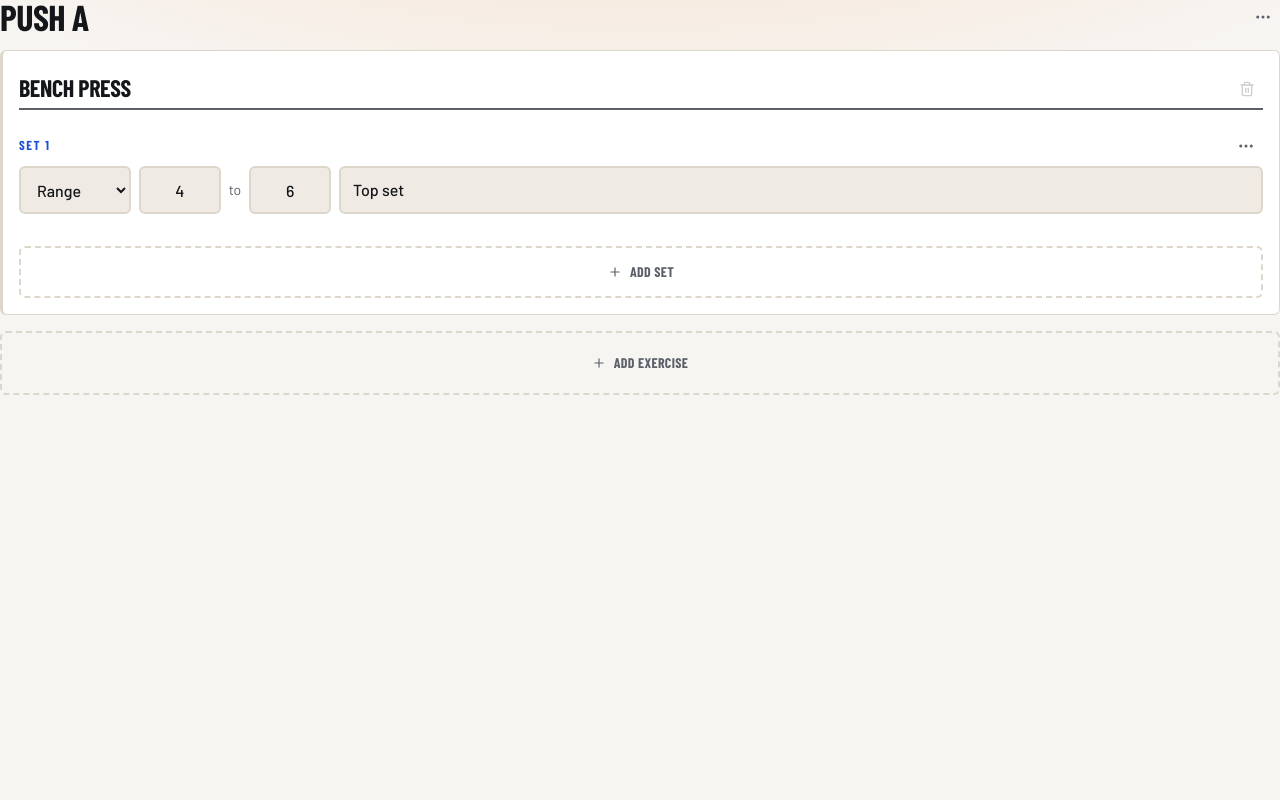
Test: WorkoutEditor › throws the unsaved changes away on undo
Expected: the button "Save changes" is not shown
Replace the text in the dropdown named "Exercise 1 name" with "Incline press" at point(641, 88), box [19,67,1263,110]
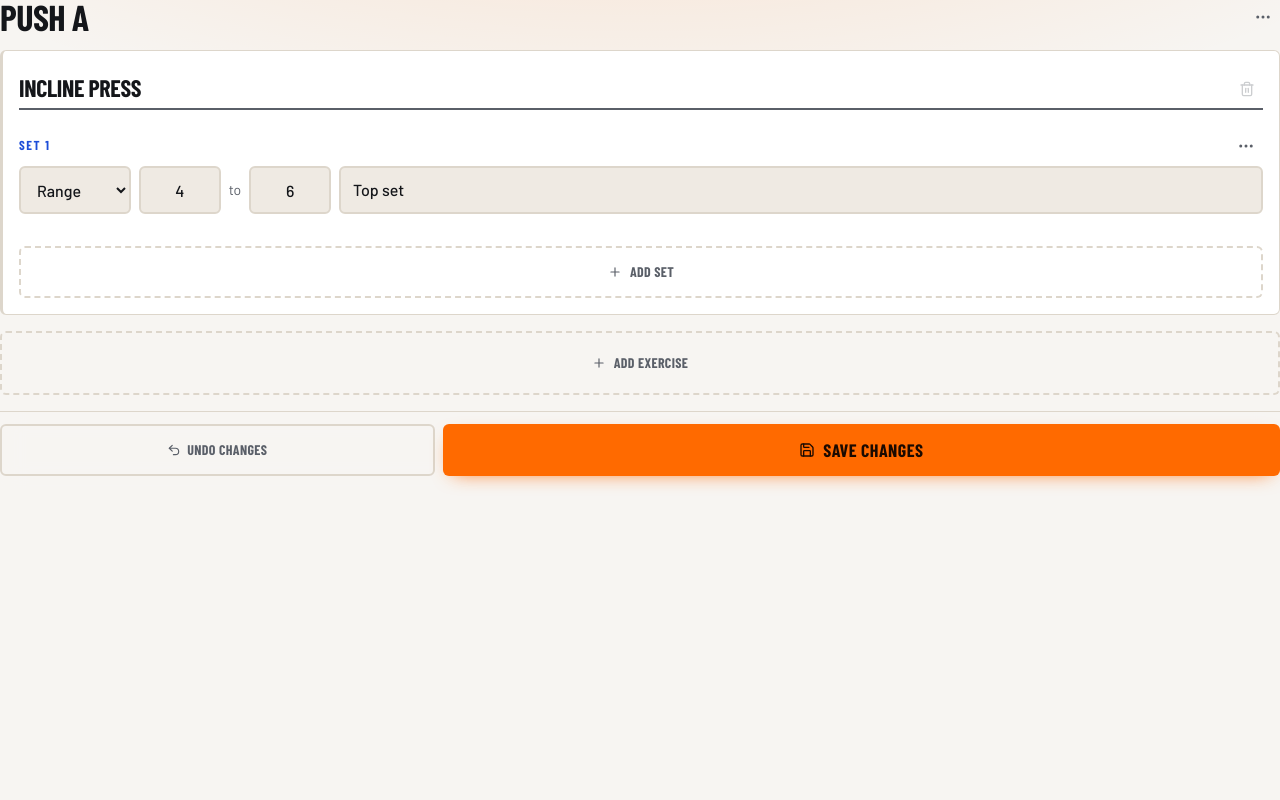
Click the button "Add exercise" at point(640, 363), box [0,331,1279,395]
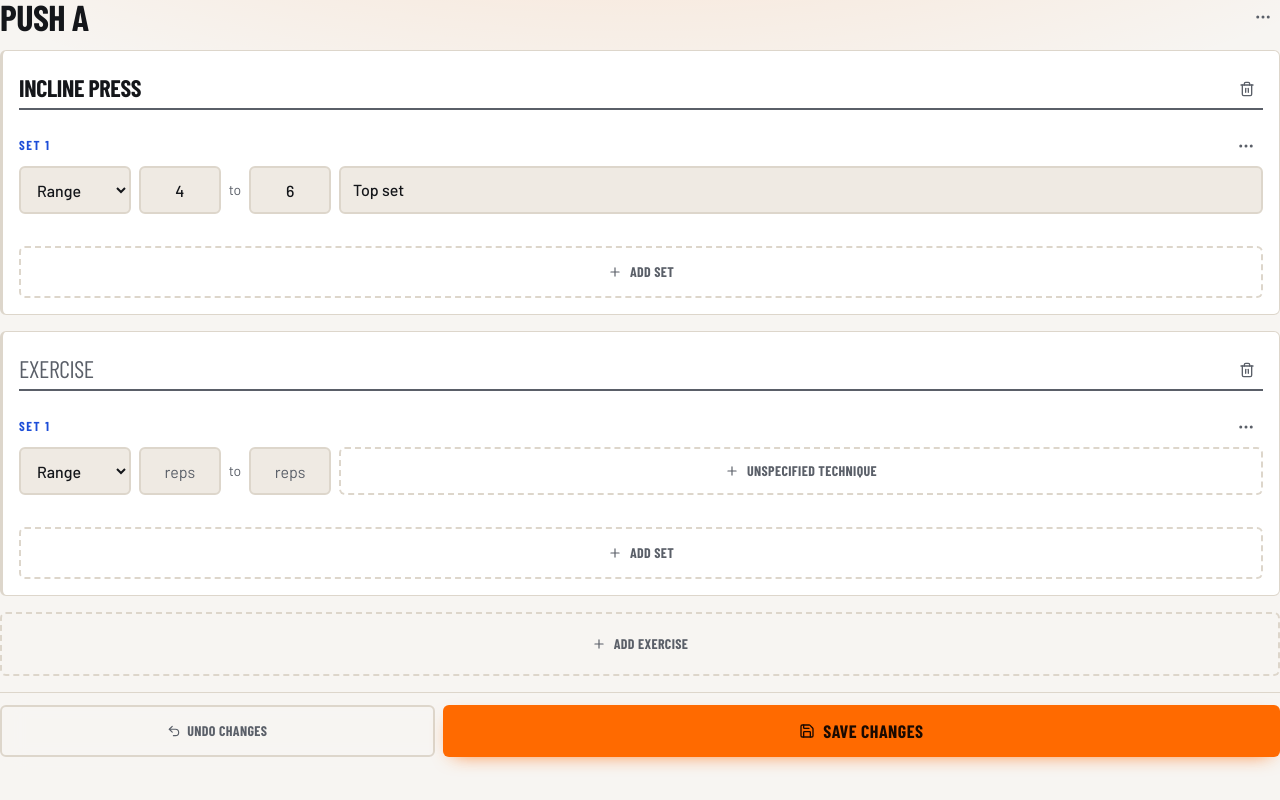
Click the button with aria-label "Add set to exercise 1" at point(641, 272), box [19,246,1263,298]
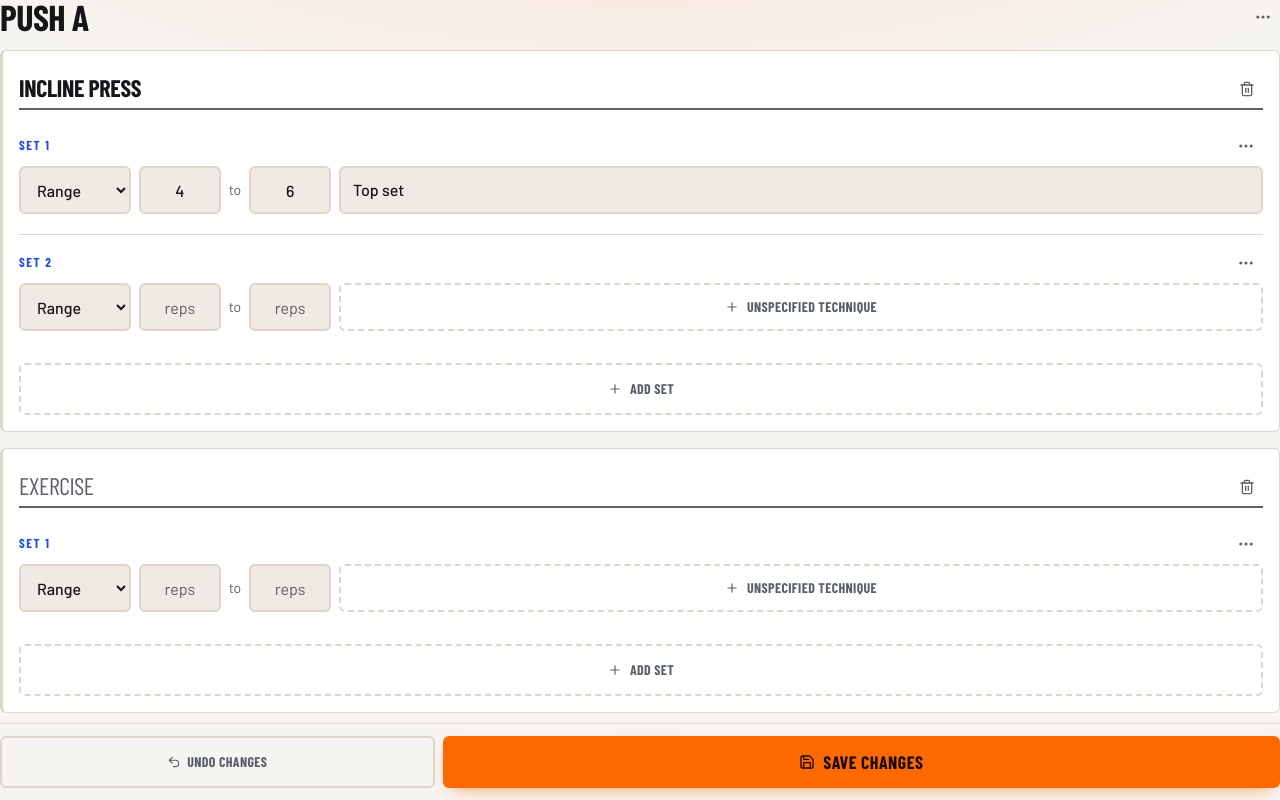
Now the button "Undo changes" is enabled
Click the button "Undo changes" at point(217, 762), box [0,736,435,788]
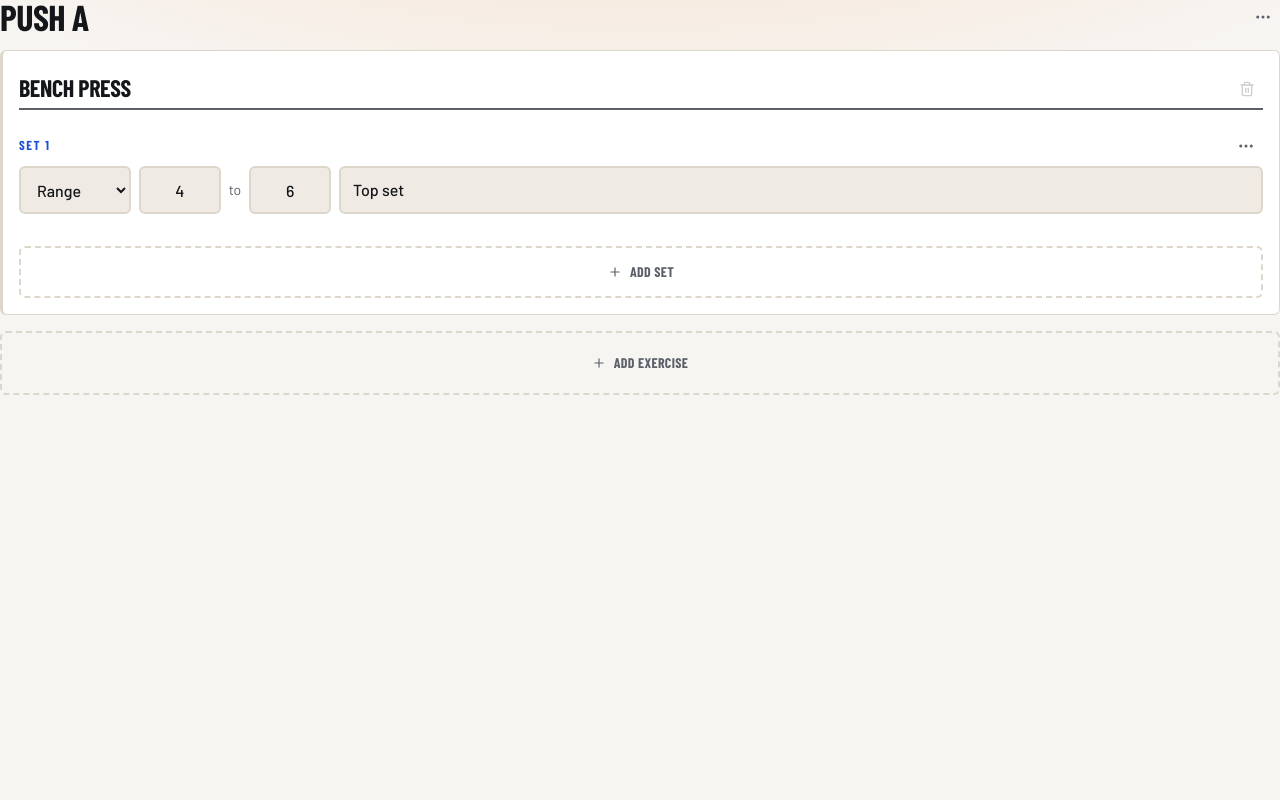
Now the dropdown named "Exercise 1 name" holds "Bench press", box [19,67,1263,110]
Now the button "Save changes" is gone
